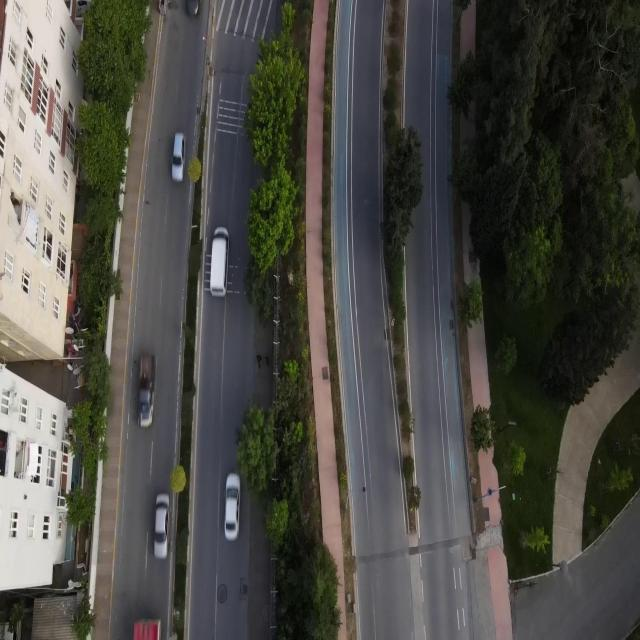p3rson: (256, 351, 262, 370), (264, 354, 269, 368)
